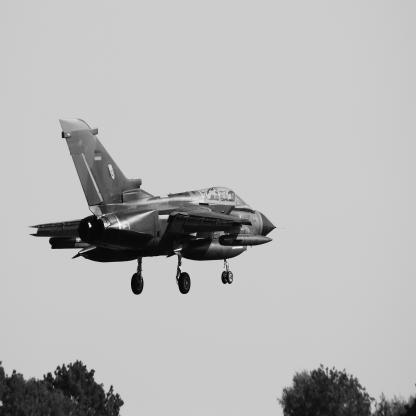Tornado: (27, 119, 286, 296)
